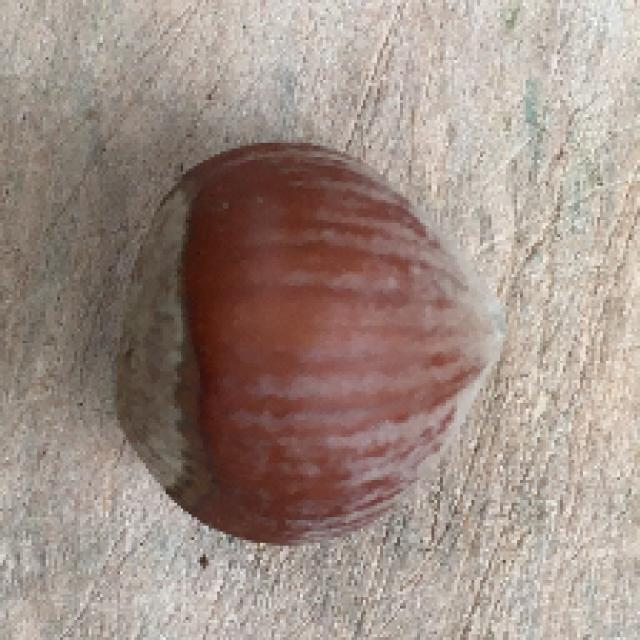qualityHazelnut: (110, 138, 505, 546)
